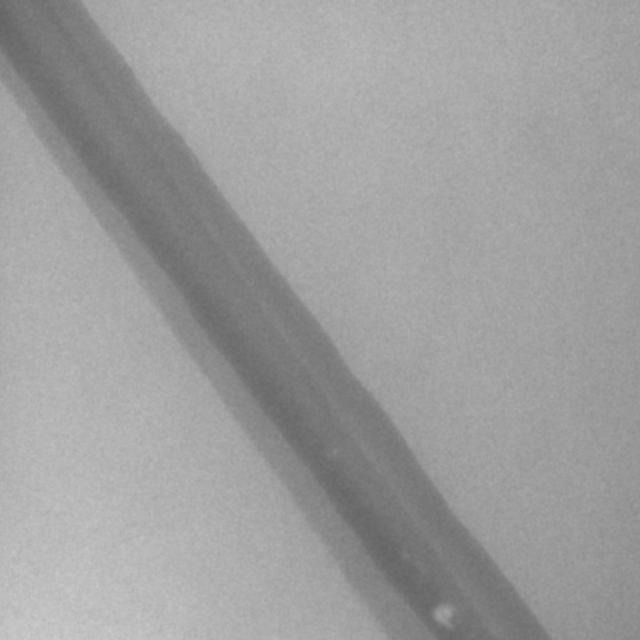slag inclusion: (432, 605, 455, 630)
